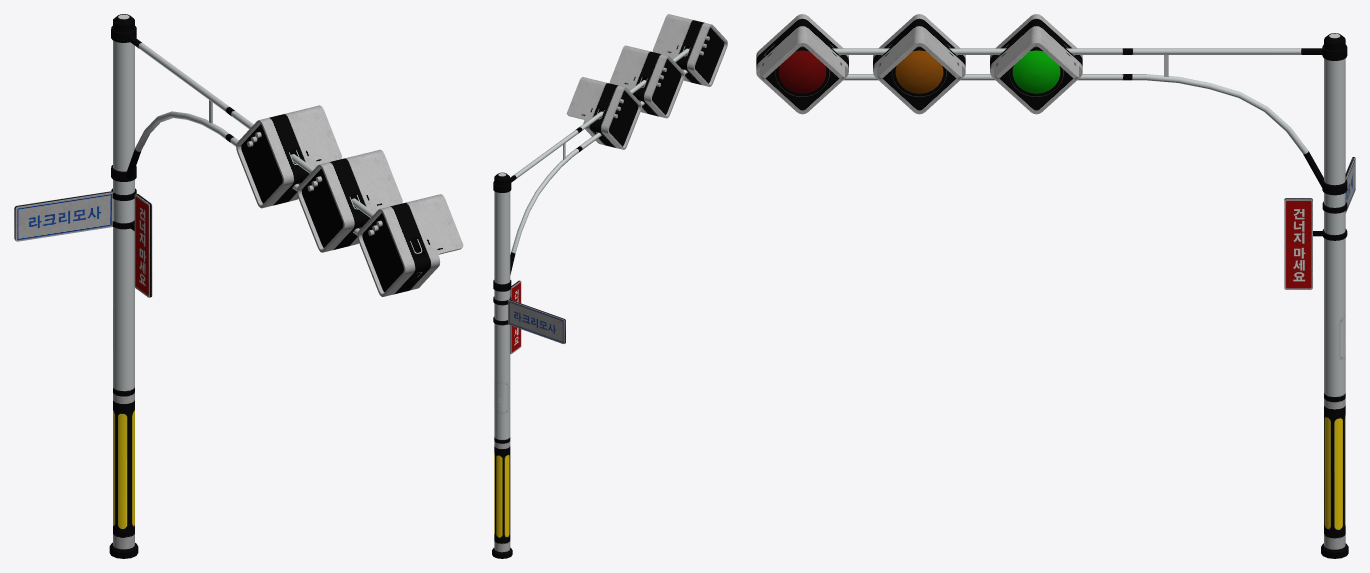
Rendered from traffic_light.gltf.
3 renders of one model, left to right at view 1: azimuth 30°, elevation 25°; view 2: azimuth 150°, elevation 25°; view 3: azimuth 270°, elevation 25°, orthographic. The views are drawn at different scales.
Visible parts, largest first — view 1: traffic_light; view 2: traffic_light; view 3: traffic_light.
Boxes of the visible parts, x1,y1,x2,y2 form: traffic_light: (14,14,463,558); traffic_light: (492,14,727,558); traffic_light: (756,14,1355,558).
Size of the model in its own units: 1.46 by 5.4 by 5.53.
1 material, 1 textured.
